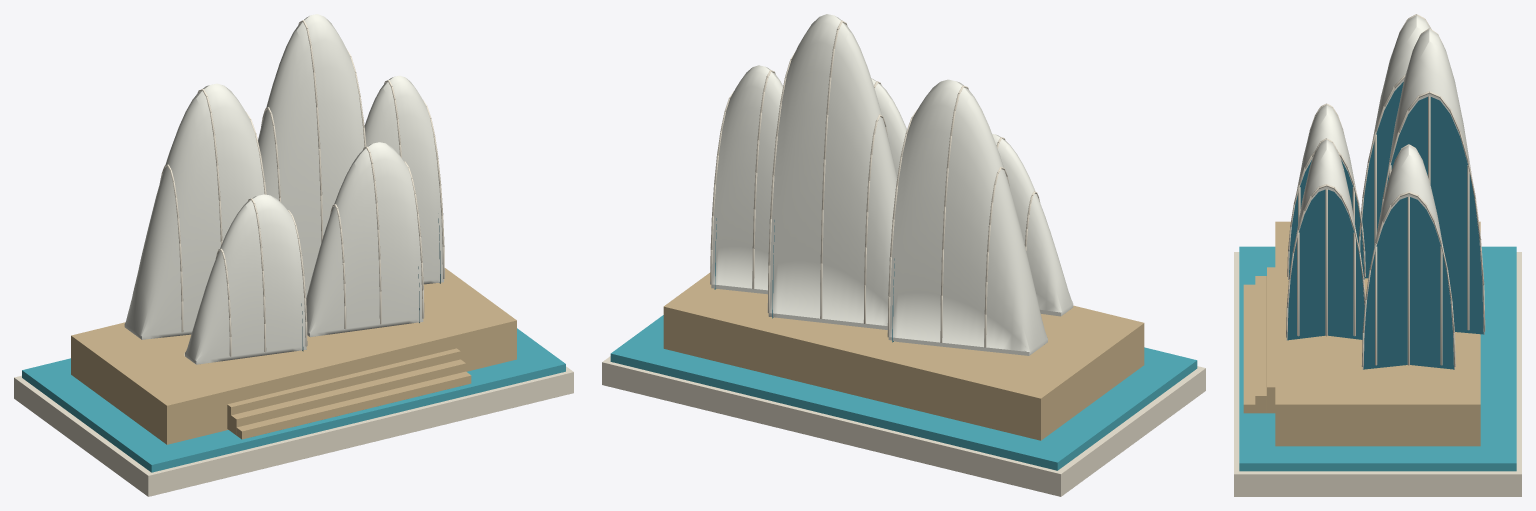
File: sydney-opera-house.glb
3 renders of one model, left to right at view 1: azimuth 30°, elevation 25°; view 2: azimuth 150°, elevation 25°; view 3: azimuth 270°, elevation 25°, orthographic. The views are drawn at different scales.
Visible parts, largest first — view 1: Sydney Opera House; view 2: Sydney Opera House; view 3: Sydney Opera House.
Boxes of the visible parts, x1=… form: Sydney Opera House: x1=14, y1=14, x2=573, y2=496; Sydney Opera House: x1=602, y1=14, x2=1205, y2=496; Sydney Opera House: x1=1234, y1=14, x2=1521, y2=496.
Bounding box in the file's own units: 1.47 × 1.17 × 0.8064.
